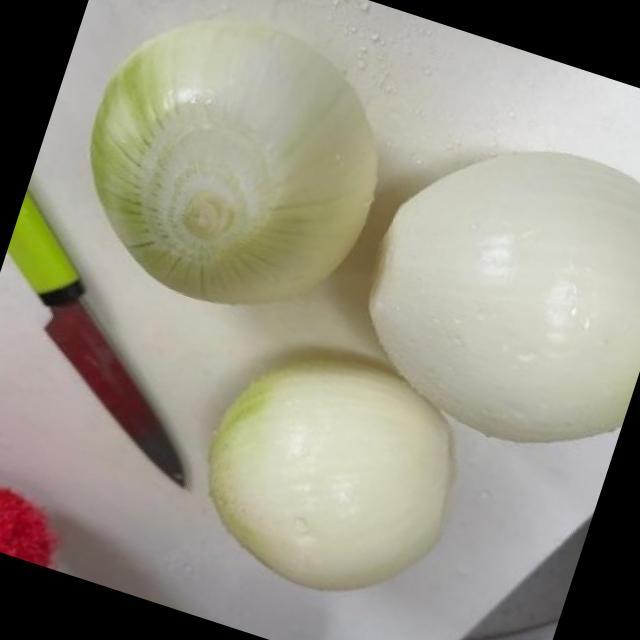Onion: (91, 22, 382, 307), (370, 152, 640, 439), (209, 353, 459, 595)
